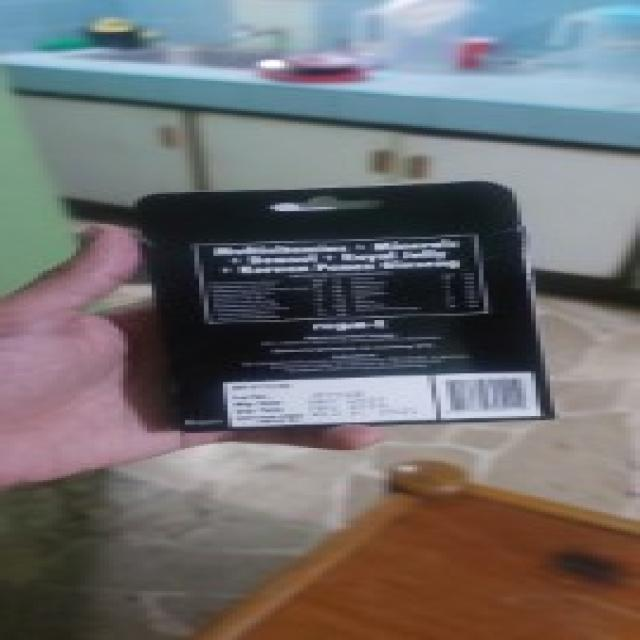Cacat: (130, 183, 555, 433)
